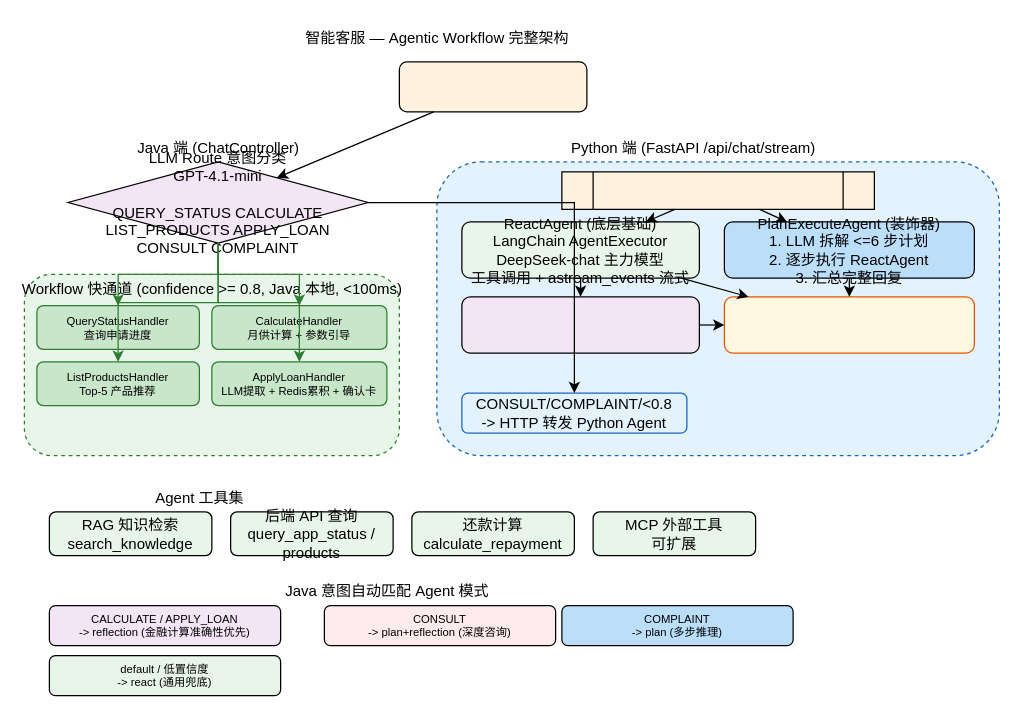
Some shapes in this 1021 by 718 pixel diagram are drawn without their labels. The centre of each missing label's shape, as x and y in pixels:
"BaseAgent 抽象基类 (async chat() 接口)" goes at point 717,190.
"ChatAgent 工厂 按 agent_mode 组装: react / plan / reflection / plan+reflection" goes at point 848,324.
"ReflectionAgent (装饰器) 金融/推荐类关键词触发 LLM 审查员 4维打分 <0.7 修正 (最多2轮)" goes at point 580,324.
"用户消息" goes at point 492,86.
